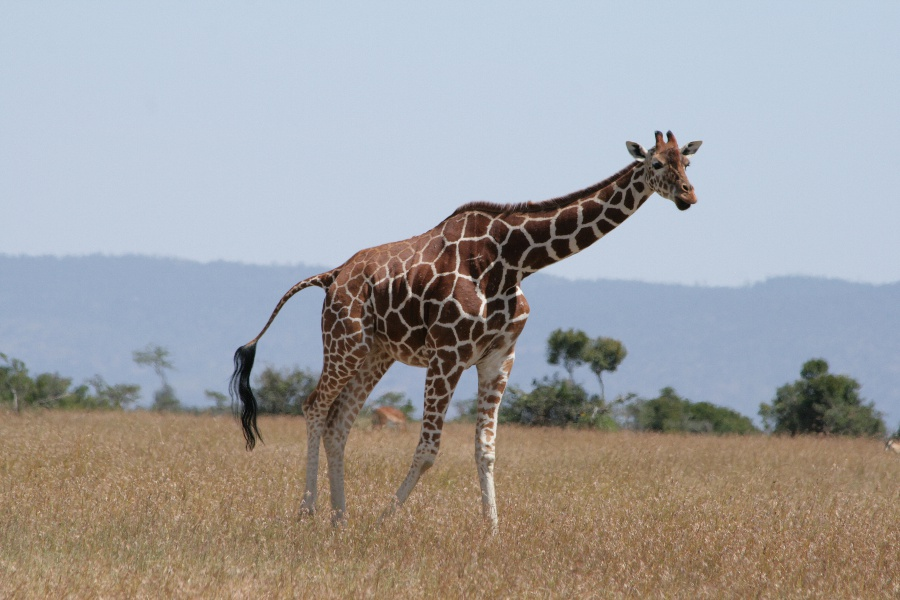giraffe: (280, 121, 708, 525)
